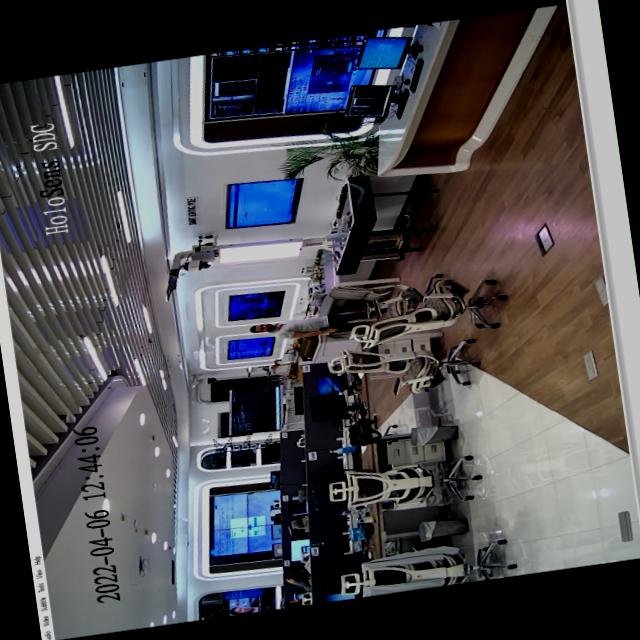long weapon: (308, 314, 383, 337)
